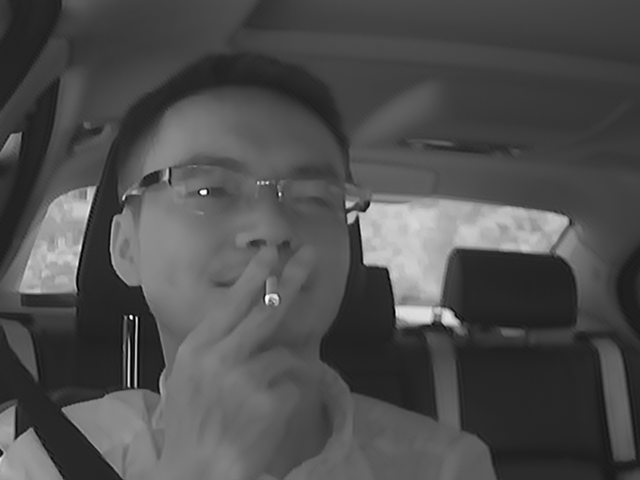hand: (180, 249, 321, 422)
